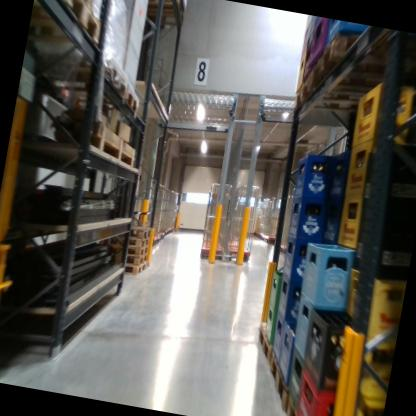pallet: (306, 25, 416, 114), (286, 61, 416, 132), (28, 0, 113, 56), (38, 47, 130, 98), (51, 70, 146, 111), (60, 126, 141, 170), (256, 350, 299, 416), (244, 314, 276, 366), (101, 222, 153, 250), (104, 244, 151, 269), (105, 235, 150, 260), (104, 217, 152, 240), (114, 256, 147, 280), (285, 396, 318, 416)
